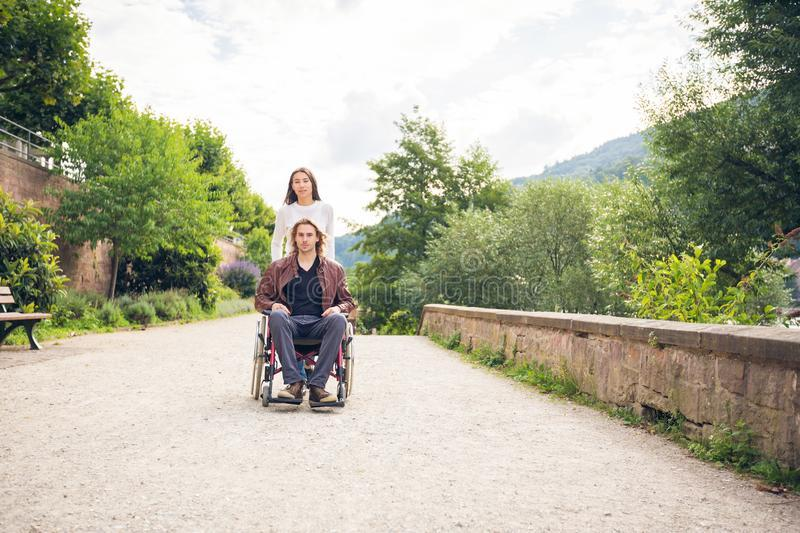push_wheelchair: (270, 167, 335, 391)
wheelchair: (249, 217, 357, 409)
